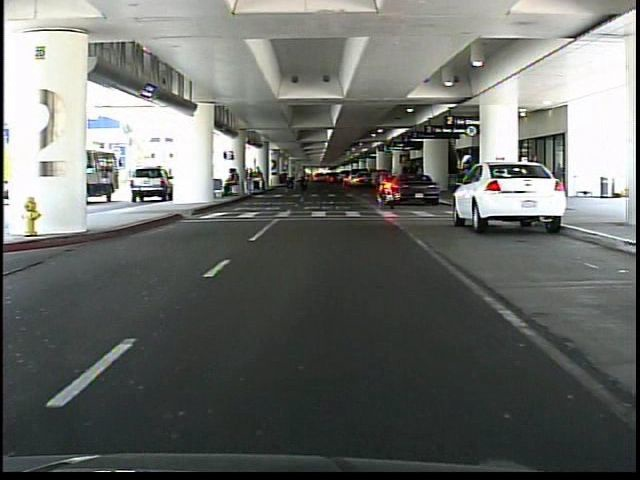person: (454, 151, 476, 225)
